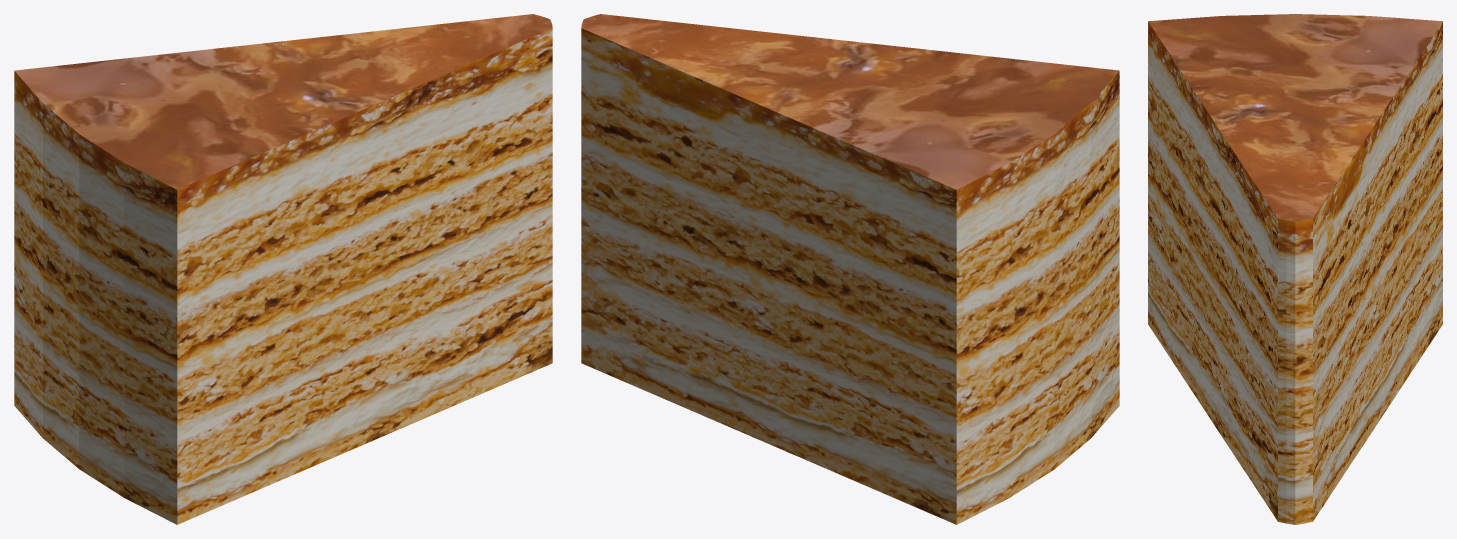
3 views of the same model, side by side, from view 1: azimuth 30°, elevation 25°; view 2: azimuth 150°, elevation 25°; view 3: azimuth 270°, elevation 25° (orthographic). The views are drawn at different scales.
Visible parts, largest first — view 1: Cube; view 2: Cube; view 3: Cube.
Part boxes in pixels (x1,y1,x2,y2): Cube: (14, 14, 552, 524); Cube: (581, 14, 1119, 524); Cube: (1148, 14, 1442, 524).
Bounding box in the file's own units: 3.34 × 2.27 × 2.
1 material, 1 textured.
